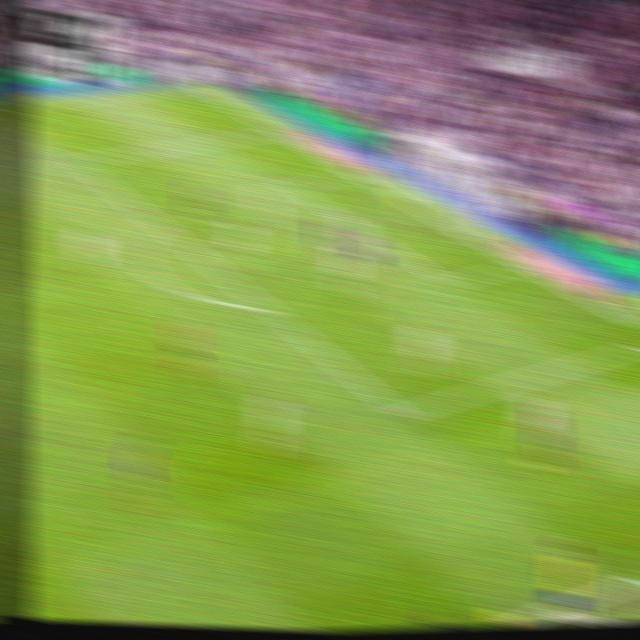bigarea_bottom_inner: (387, 397, 417, 428)
bigarea_top_inner: (63, 149, 90, 171)
bigarea_top_outter: (264, 121, 289, 138)
bottom_arc_area_intersection: (253, 294, 281, 319)
corner: (184, 79, 210, 94)
smallarea_bottom_inner: (435, 271, 461, 294)
smallarea_top_inner: (278, 175, 304, 196)
top_arc_area_intersection: (141, 208, 167, 230)
